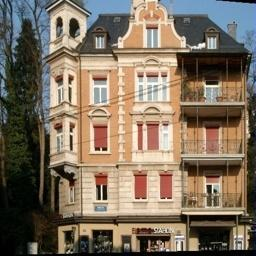building: (46, 1, 251, 254)
